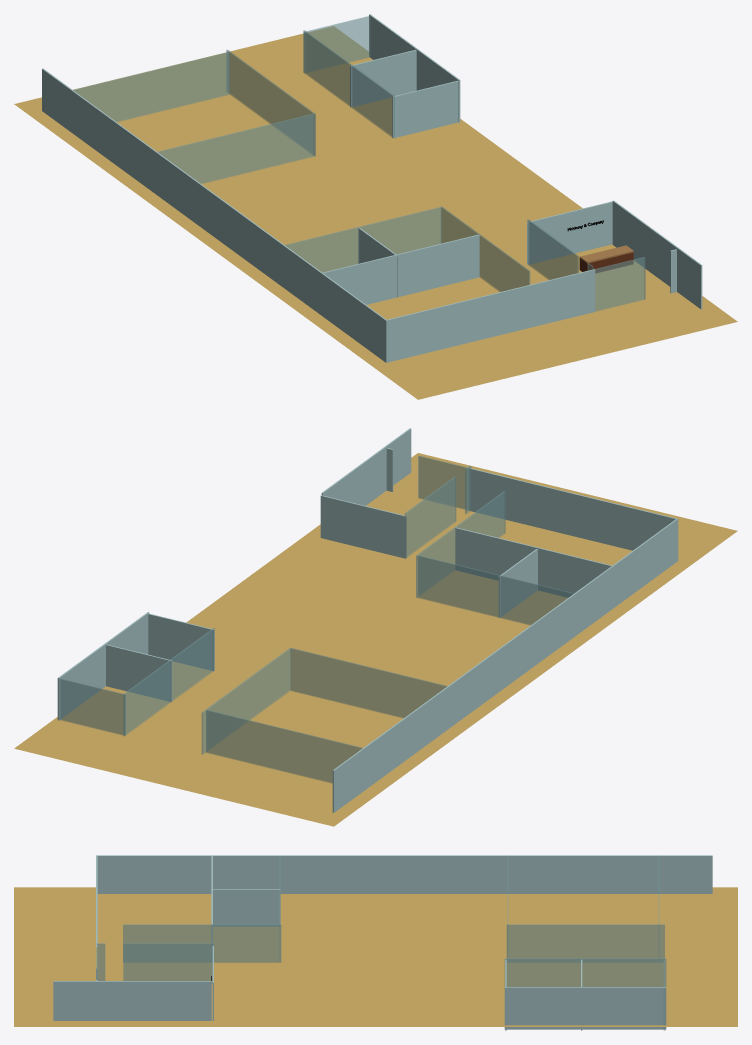
The model's file is mdl.dae.
3 renders of one model, top to bottom at view 1: azimuth 30°, elevation 25°; view 2: azimuth 150°, elevation 25°; view 3: azimuth 270°, elevation 25°, orthographic. The views are drawn at different scales.
Visible parts, largest first — view 1: Plane, Cube_006, Cube, Cube_012, Cube_010, Cube_007, Cube_008, Cube_014, Cube_011, Cube_003, Cube_001, Cube_016 (+7 smaller); view 2: Plane, Cube_006, Cube, Cube_010, Cube_012, Cube_008, Cube_007, Cube_014, Cube_011, Cube_001, Cube_015, Cube_005 (+6 smaller); view 3: Plane, Cube_006, Cube_015, Cube_003, Cube_011, Cube_005, Cube_014, Cube_004, Cube_009.
Part boxes in pixels (x1,y1,x2,y2): Plane: (14, 26, 737, 399); Cube_006: (42, 68, 387, 362); Cube: (386, 249, 676, 362); Cube_012: (158, 113, 314, 183); Cube_010: (73, 52, 229, 121); Cube_007: (323, 234, 479, 304); Cube_008: (285, 207, 441, 272); Cube_014: (303, 30, 394, 138); Cube_011: (226, 49, 315, 156); Cube_003: (612, 200, 702, 309); Cube_001: (527, 201, 612, 264); Cube_016: (392, 80, 458, 138); Plane: (14, 453, 737, 826); Cube_006: (332, 519, 678, 812); Cube: (386, 448, 677, 550); Cube_010: (206, 710, 362, 783); Cube_012: (290, 648, 447, 718); Cube_008: (417, 555, 573, 625); Cube_007: (455, 527, 611, 597); Cube_014: (123, 628, 214, 736); Cube_011: (201, 648, 290, 754); Cube_001: (320, 495, 406, 558); Cube_015: (57, 612, 149, 720); Cube_005: (416, 491, 505, 597); Plane: (14, 887, 737, 1026); Cube_006: (96, 855, 712, 893); Cube_015: (504, 987, 666, 1029); Cube_003: (53, 981, 211, 1020); Cube_011: (506, 924, 664, 962); Cube_005: (123, 924, 281, 962); Cube_014: (504, 958, 666, 986); Cube_004: (97, 943, 213, 983); Cube_009: (213, 889, 280, 926).
Bounding box in the file's own units: 31.87 × 69.71 × 4.82.
